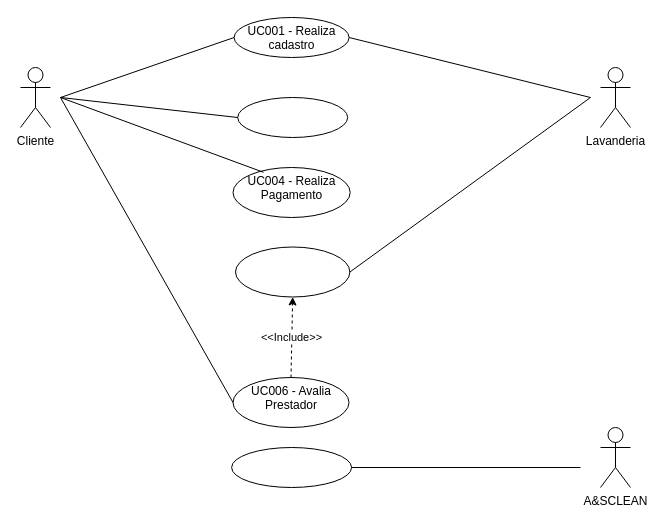
Image size: 665x526. Some labels were removed from this diagram. The shapes that lost their labels are listed below. From the top down, each one's centre as x and y in pixels, then its label:
pixel 292 117: UC002 - Realiza Agendamento
pixel 292 271: UC003 - Realiza Serviço
pixel 291 467: UC005 - Gerencia o Pagamento
